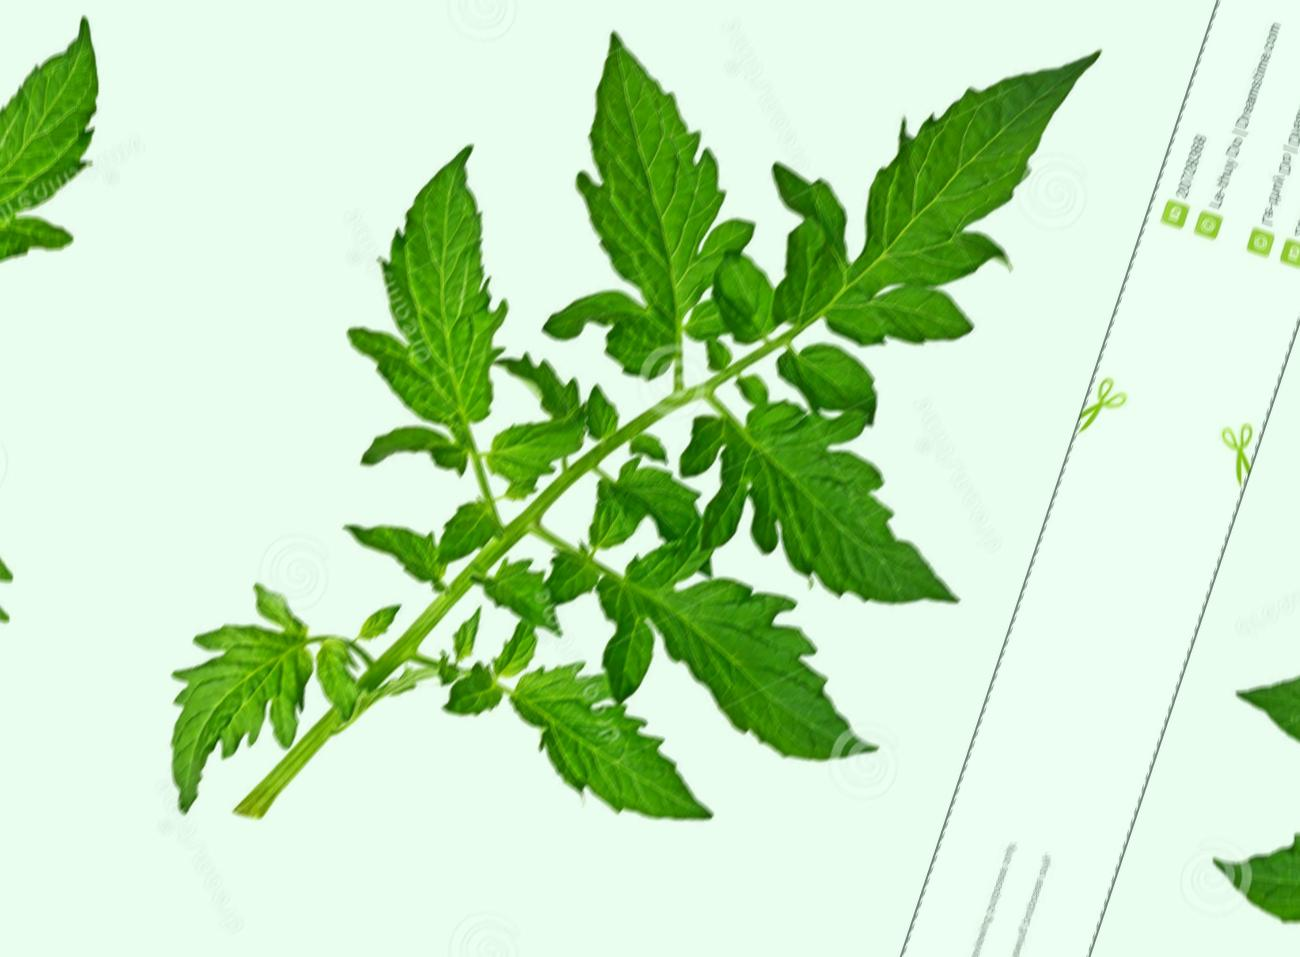Tomato leaf: (541, 498, 925, 808), (811, 0, 1130, 368), (321, 92, 598, 500), (636, 356, 1013, 642), (517, 6, 806, 369), (96, 534, 384, 861), (459, 612, 741, 864)
